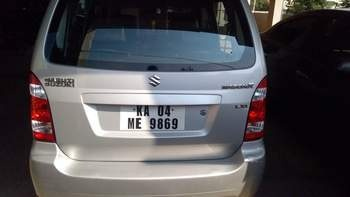number_plate: (120, 103, 184, 130)
